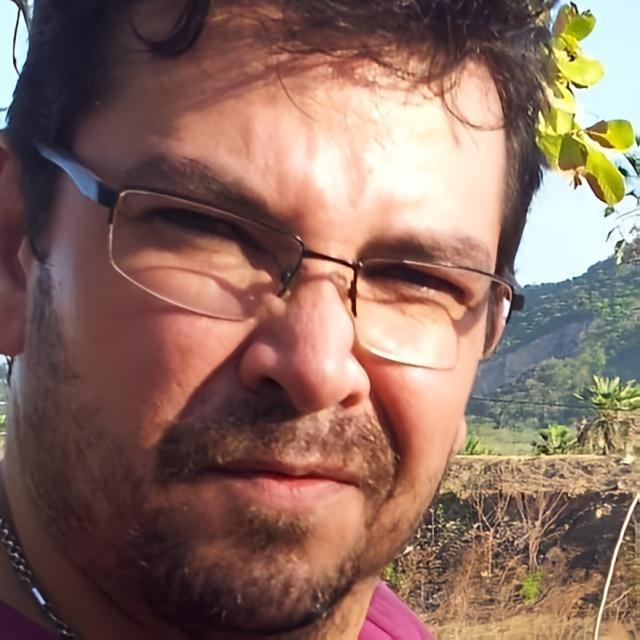disgust: (32, 1, 510, 632)
